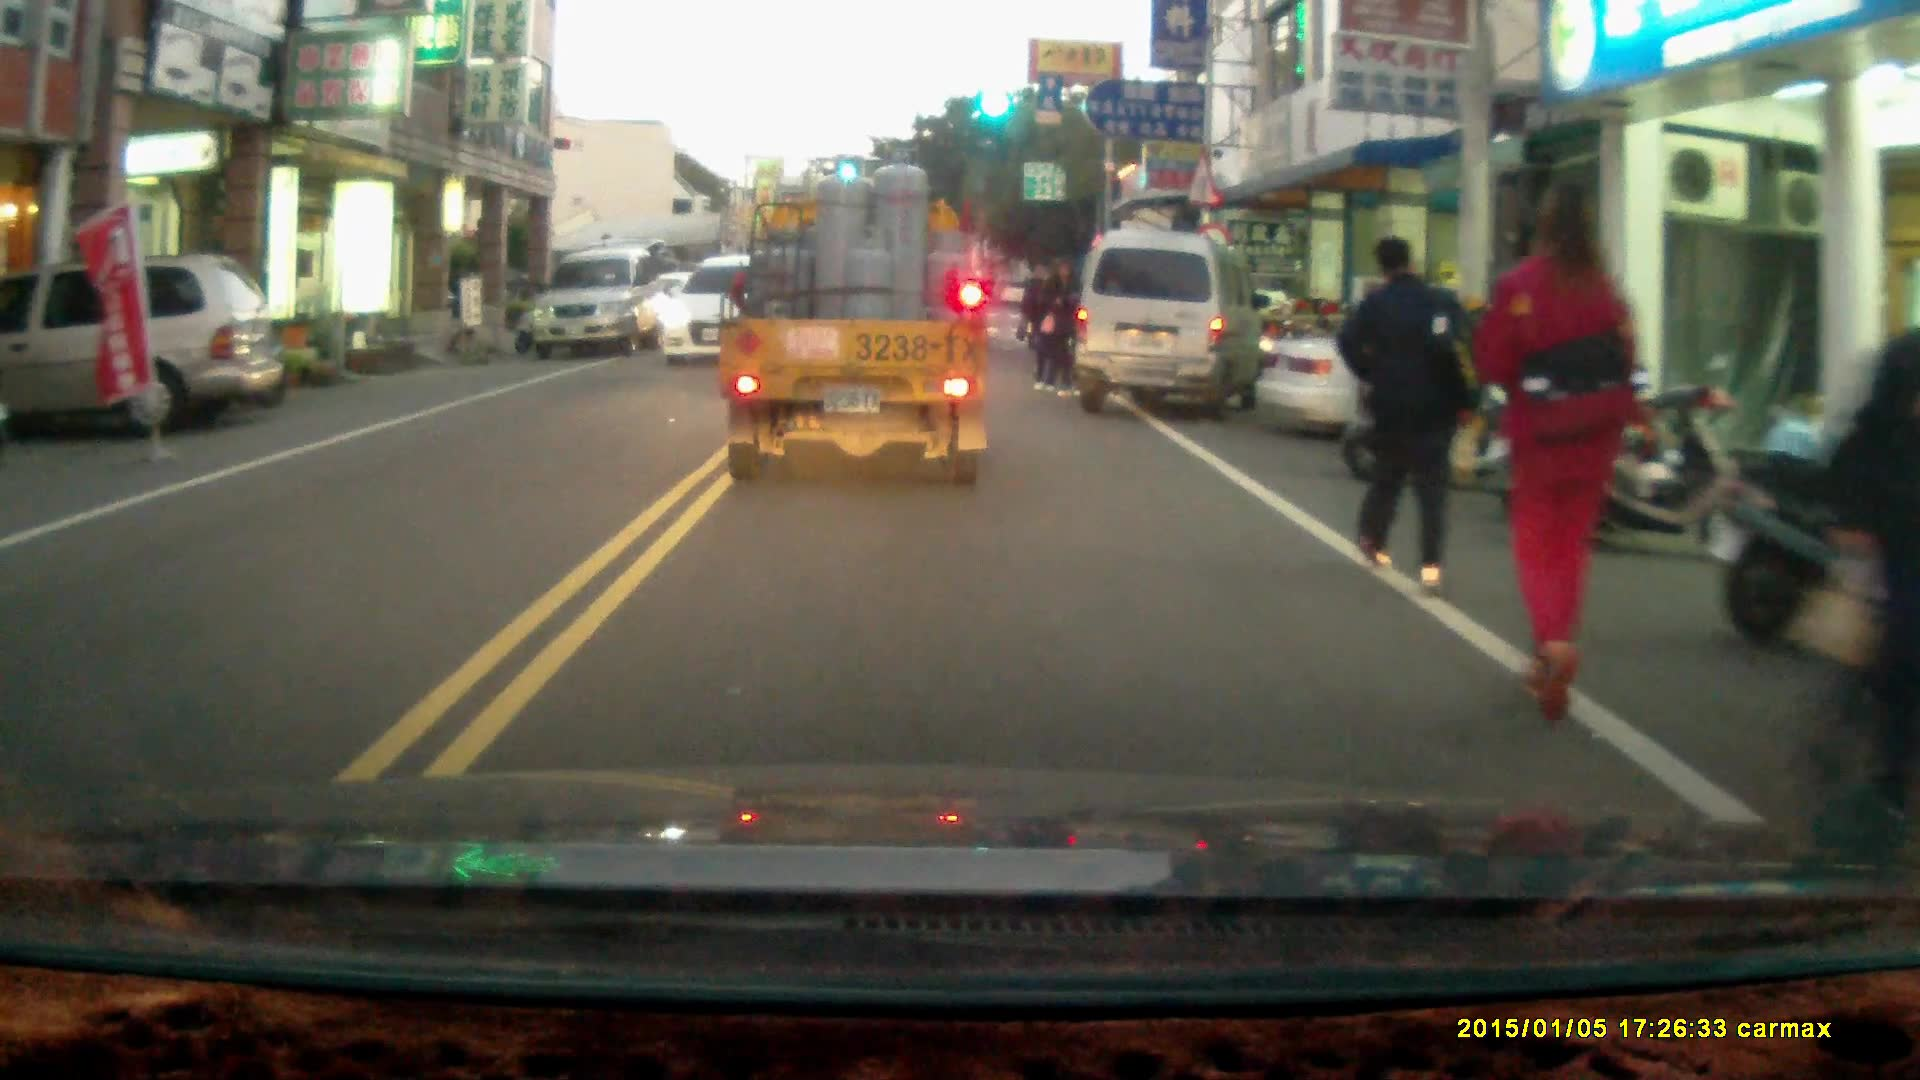pedestrian: (1474, 171, 1644, 728), (1786, 317, 1920, 823), (1331, 229, 1468, 592), (1038, 260, 1077, 400)
vehicle: (719, 174, 995, 501), (1262, 299, 1669, 460), (1, 255, 292, 441), (1076, 223, 1267, 415), (652, 249, 787, 366), (526, 247, 670, 358)
